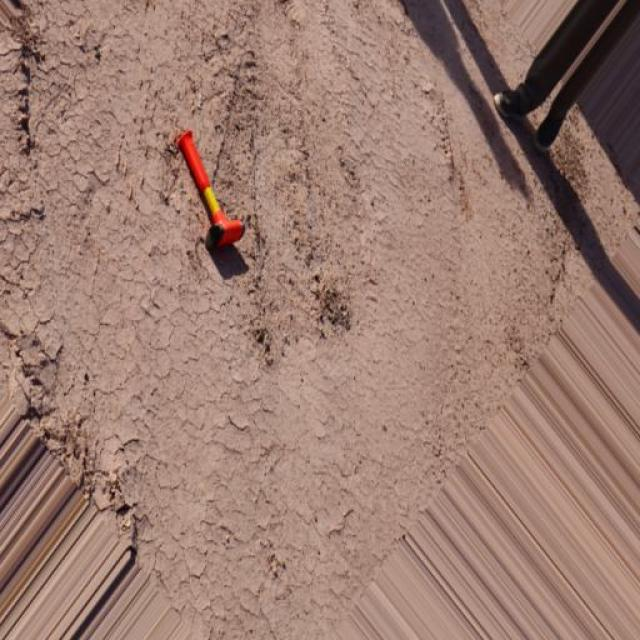mallet: (171, 128, 245, 252)
